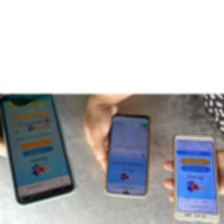phone: (0, 86, 80, 211), (100, 109, 154, 201), (171, 132, 221, 224)
